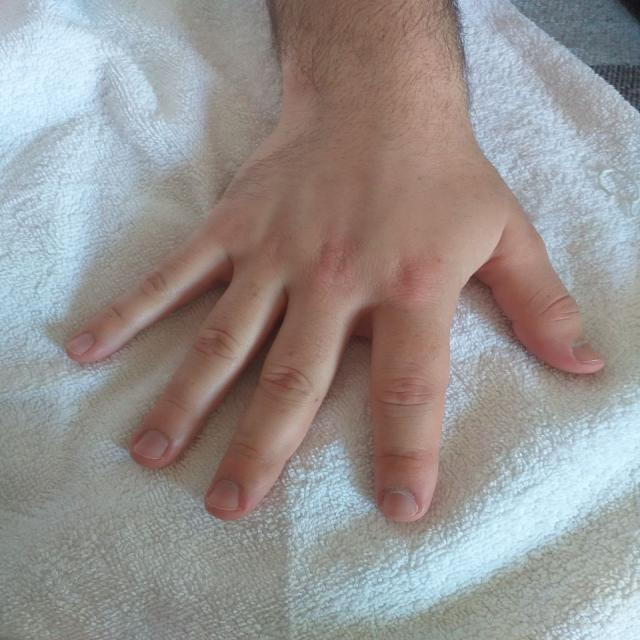Nail: (131, 429, 170, 461), (380, 489, 419, 521), (205, 479, 240, 511), (69, 332, 96, 356), (571, 342, 600, 361)
